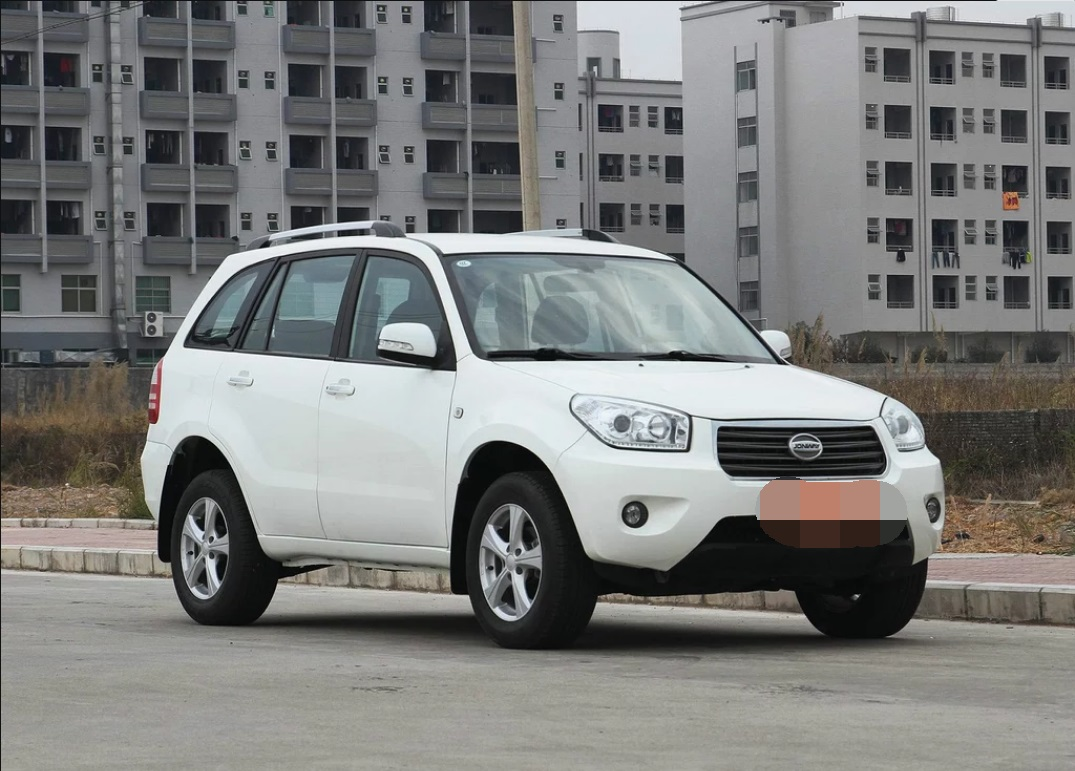SUV: (137, 216, 947, 646)
